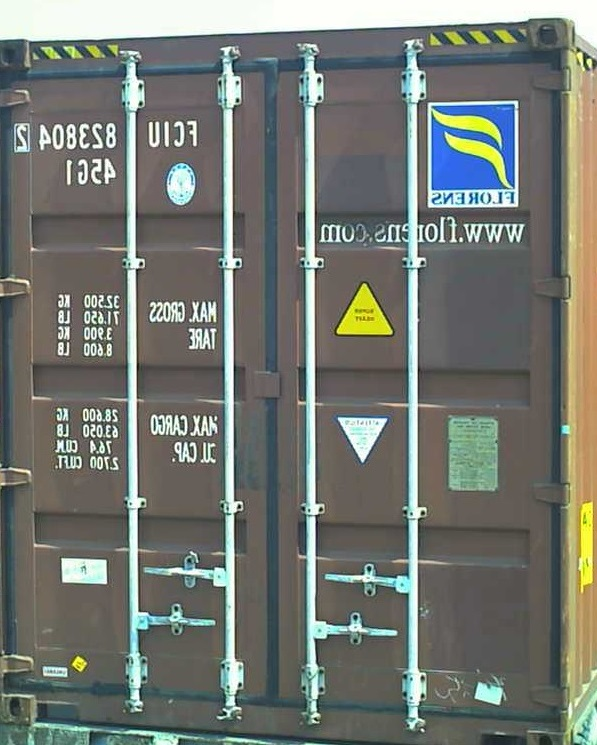container_door: (7, 15, 574, 736)
